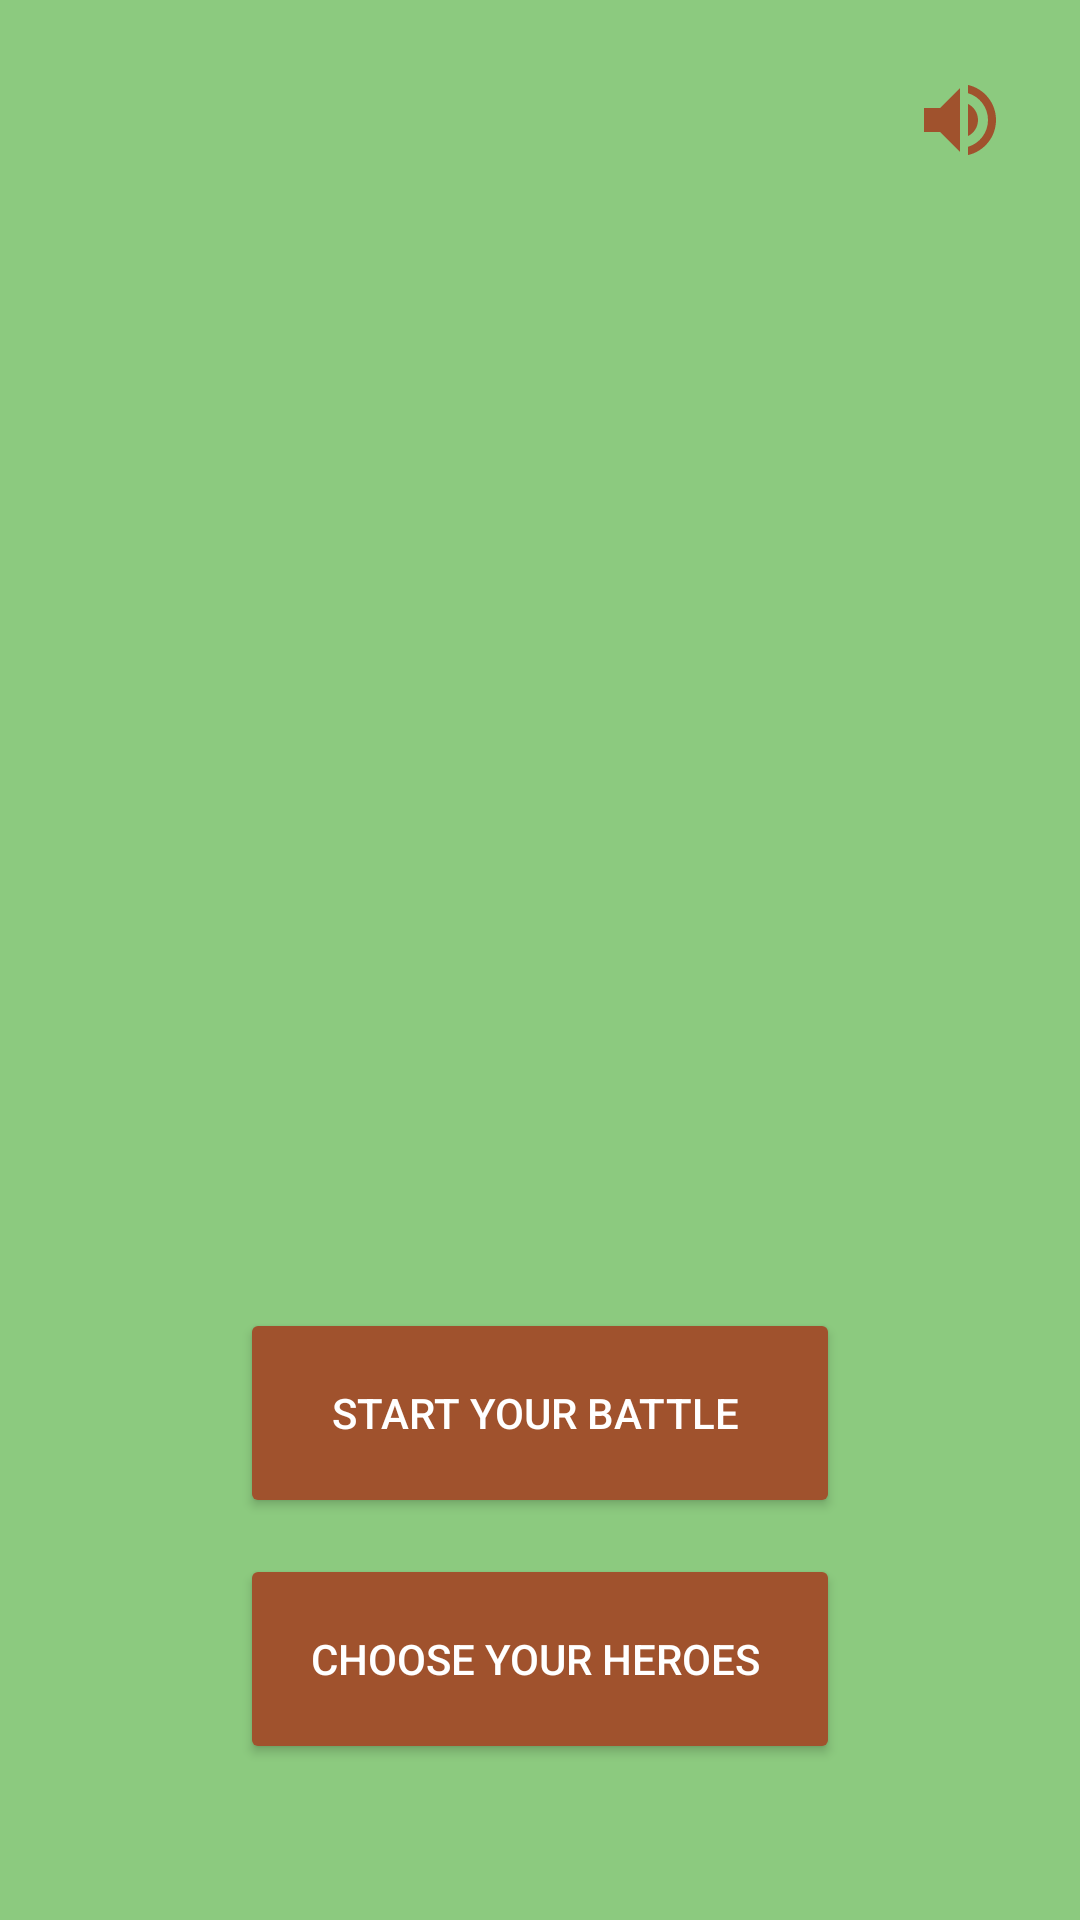

Where to tap for icons on this 1080 x 1920 app screen, as (x,y):
Mute toggle: (960,120)
